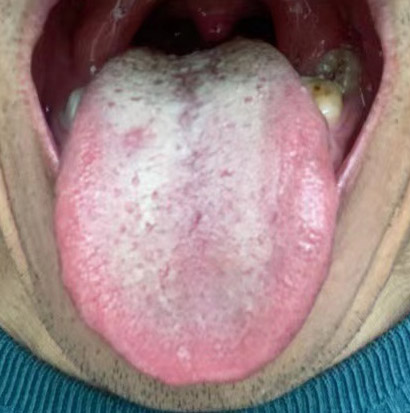baitaishe: (54, 39, 337, 384)
